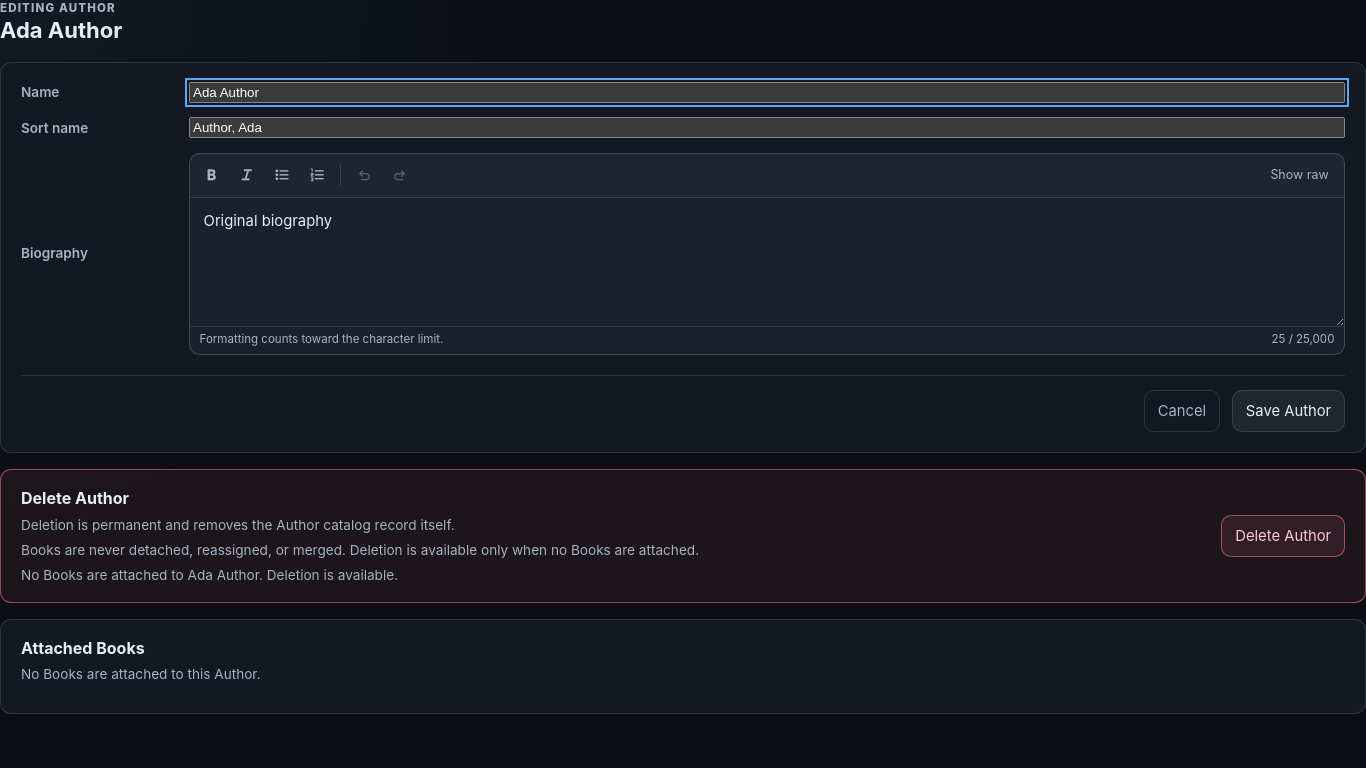
Scenario: AuthorSeriesEditOrchestrator Author mutations › retains the Author when deletion fails
What coordinates should you click on to do the following:
click the button "Delete Author"
I would click on:
 (1283, 536)
Its box is [1221,515,1345,557].
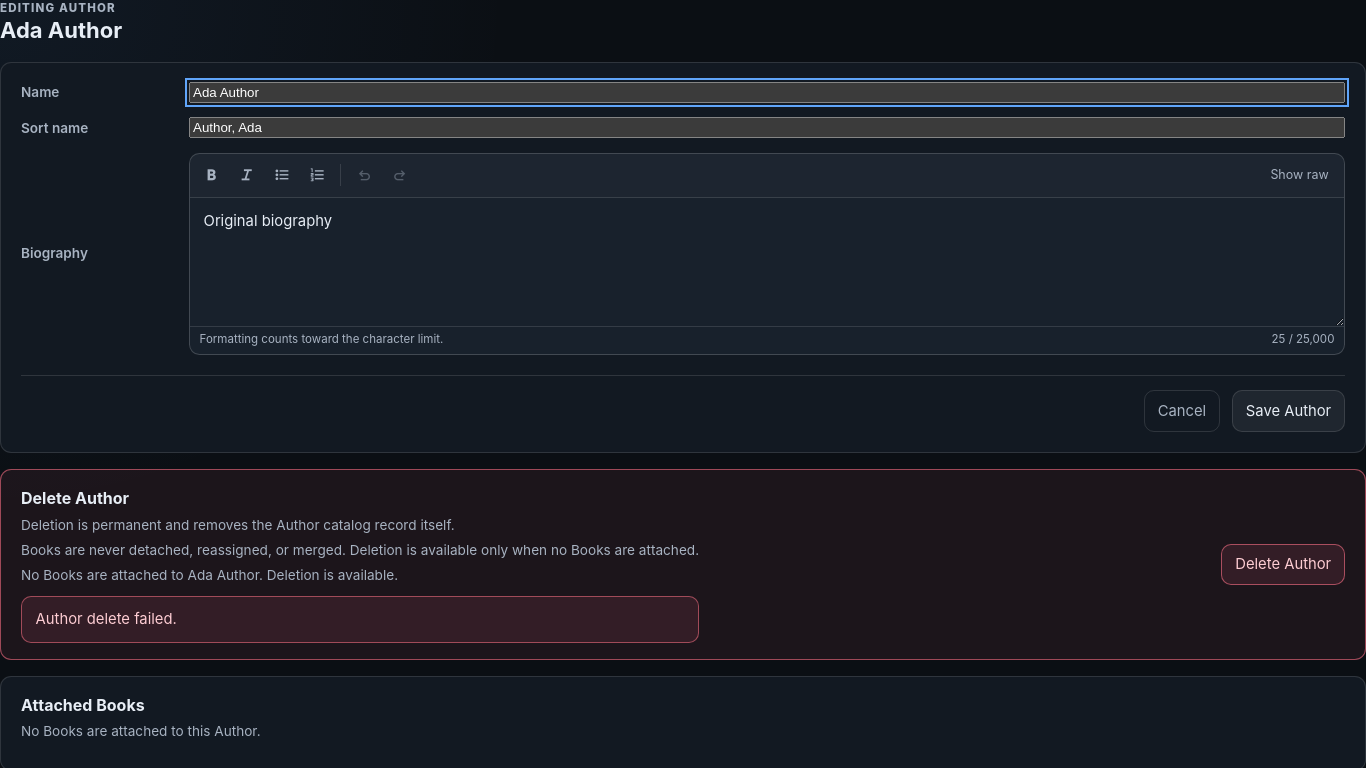
Expected: the message "Author delete failed." is shown, [21,596,699,643]
